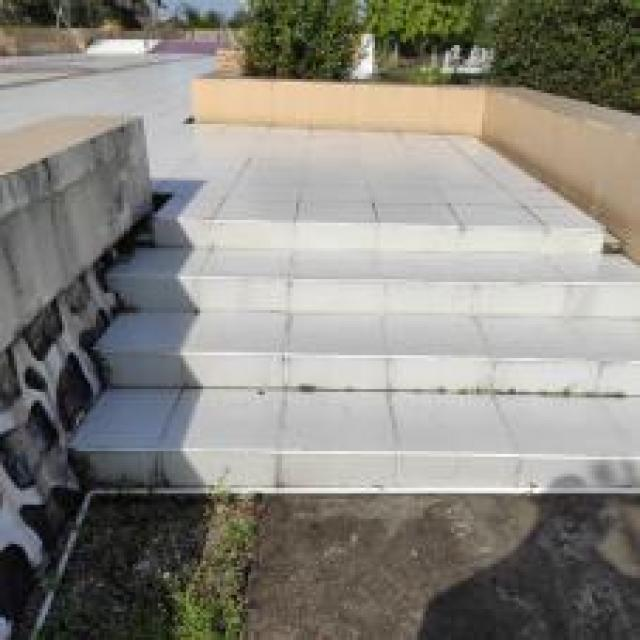upstair: (94, 181, 638, 517)
